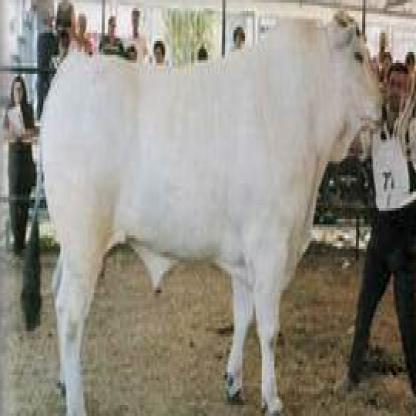cow: (41, 8, 390, 413)
